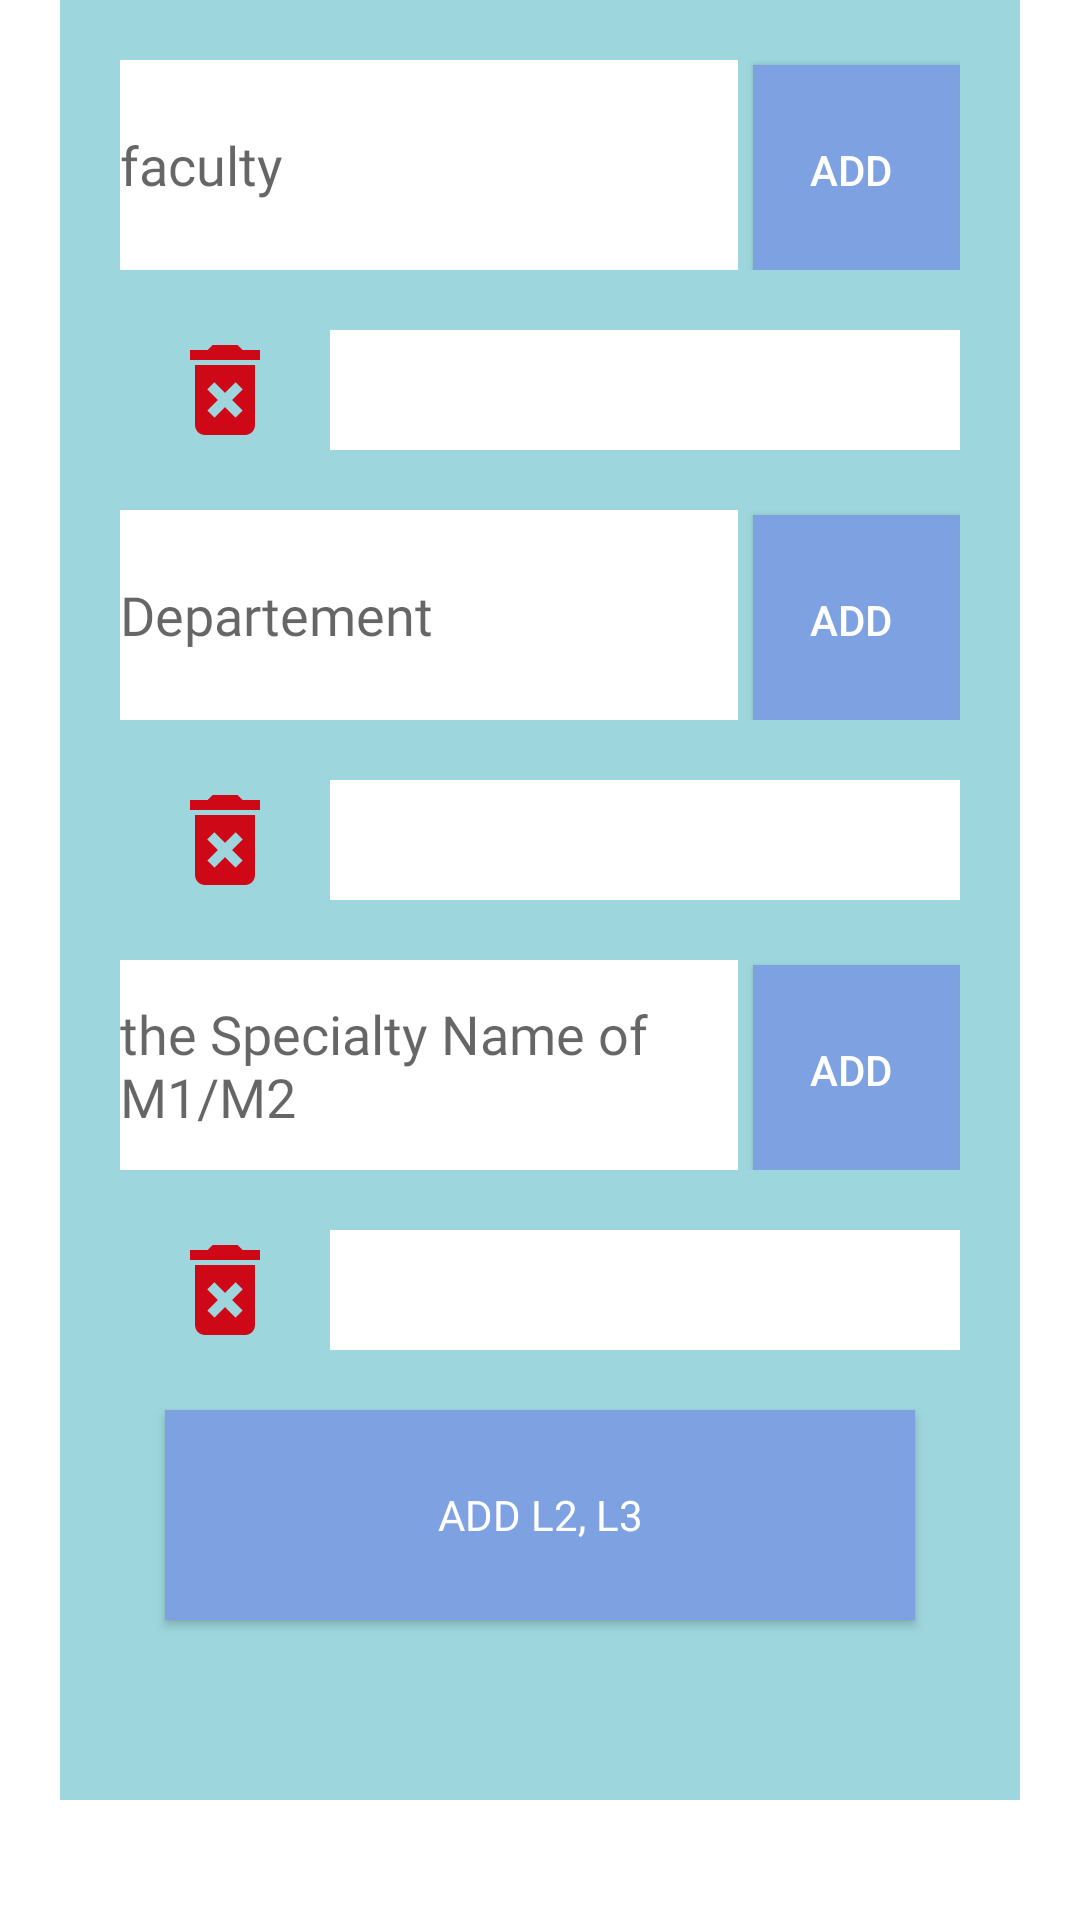

Icons on this 1080 × 1920 Android screen, each with its box as detection(x1, y1, x2, y2):
delete forever: detection(190, 345, 260, 435), detection(190, 795, 260, 885), detection(190, 1245, 260, 1335)
